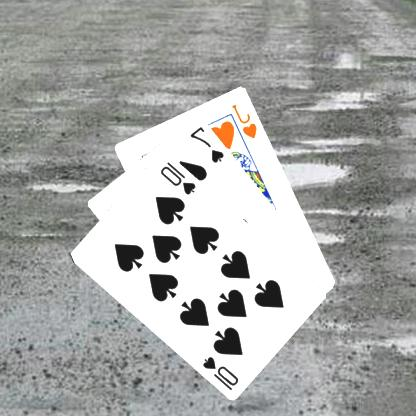10S: (159, 158, 199, 196), (202, 353, 242, 391)
7S: (189, 123, 228, 164)
JH: (230, 100, 261, 140)
